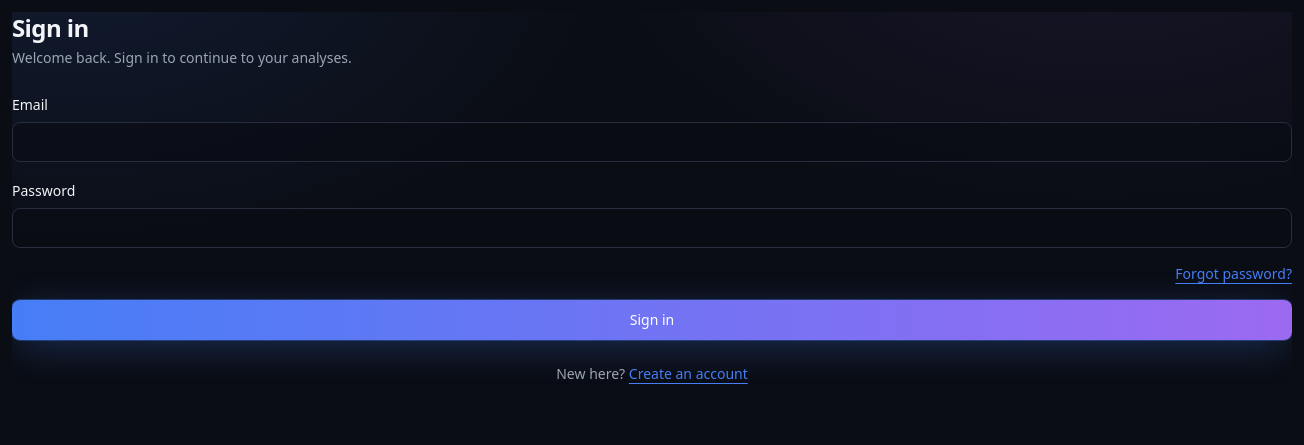
Test: Login form › shows validation errors and does not submit invalid data
Click the button "Sign in".
click(652, 320)  # box x1=12 y1=300 x2=1292 y2=340
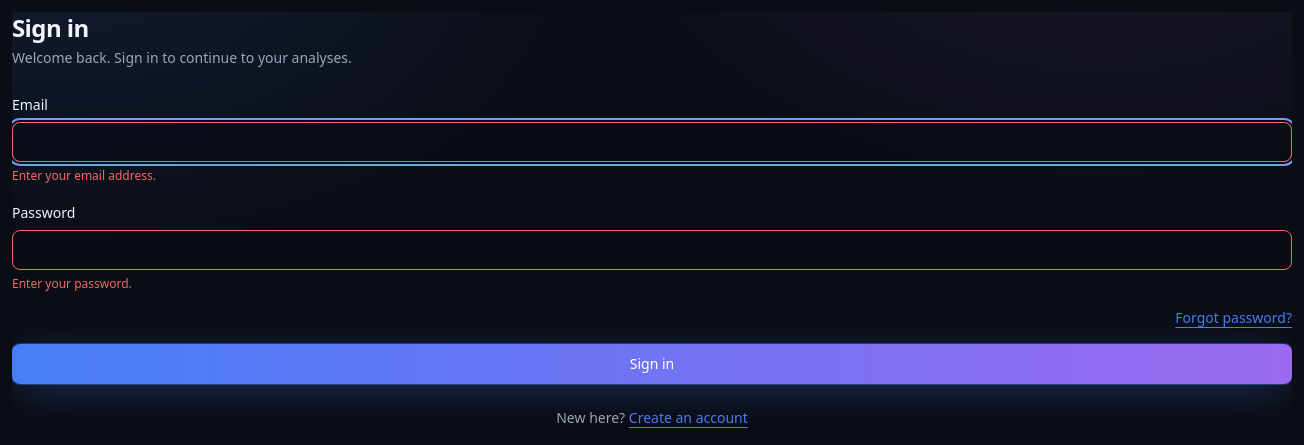
Expected: the text "Enter your email address." is shown, x1=12 y1=167 x2=156 y2=184
Expected: the text "Enter your password." is shown, x1=12 y1=275 x2=132 y2=292
